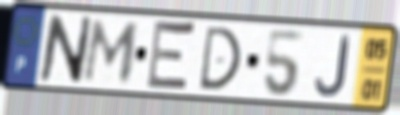5: (261, 27, 303, 100)
D: (196, 24, 244, 92)
E: (143, 16, 199, 97)
J: (314, 33, 353, 100)
M: (80, 18, 143, 85)
N: (36, 12, 95, 87)
